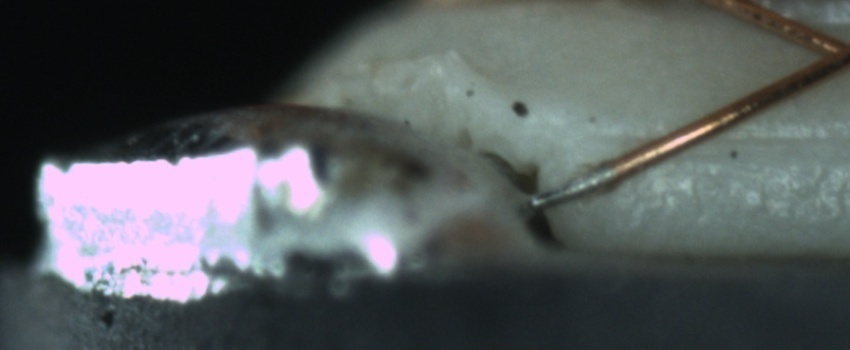CL: (798, 21, 850, 79)
DL: (606, 106, 844, 175)
TS: (528, 166, 613, 205)
TTCW: (528, 157, 625, 207)
